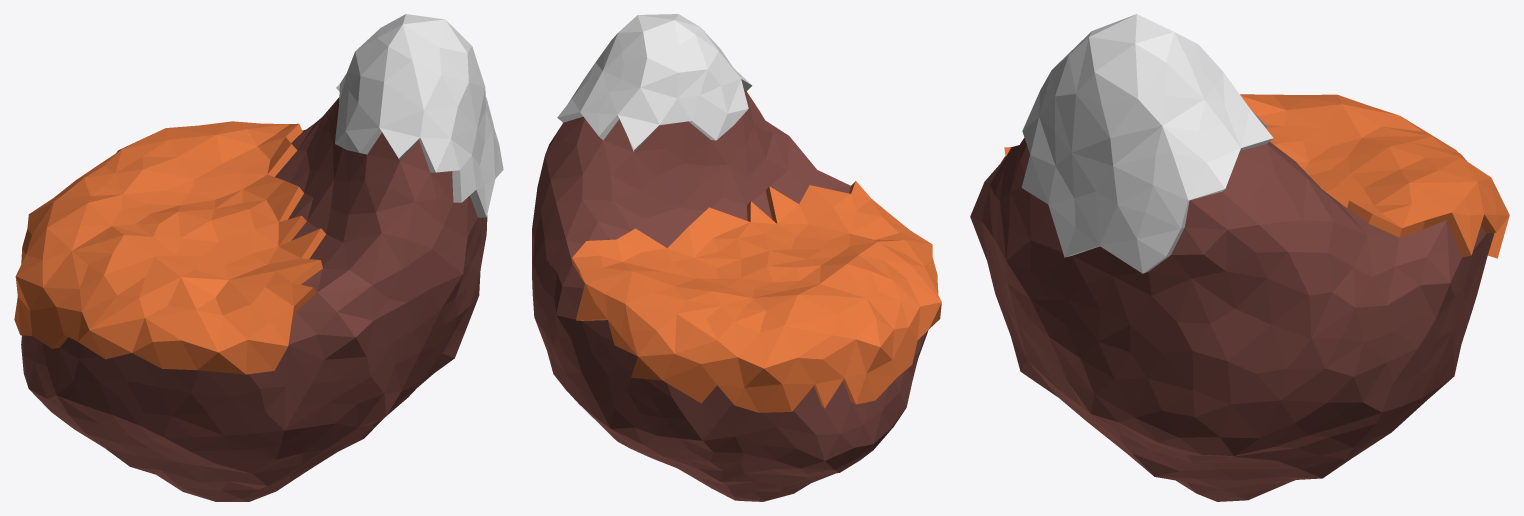
Rendered from IslandForCMPM121.fbx.
3 renders of one model, left to right at view 1: azimuth 30°, elevation 25°; view 2: azimuth 150°, elevation 25°; view 3: azimuth 270°, elevation 25°, orthographic. The views are drawn at different scales.
Parts seen in each view (by area): view 1: Icosphere.001; view 2: Icosphere.001; view 3: Icosphere.001.
Part boxes in pixels (x1=…): Icosphere.001: x1=14, y1=14, x2=503, y2=501; Icosphere.001: x1=532, y1=14, x2=941, y2=501; Icosphere.001: x1=970, y1=14, x2=1509, y2=501.
Bounding box in the file's own units: 213 × 232 × 204.
